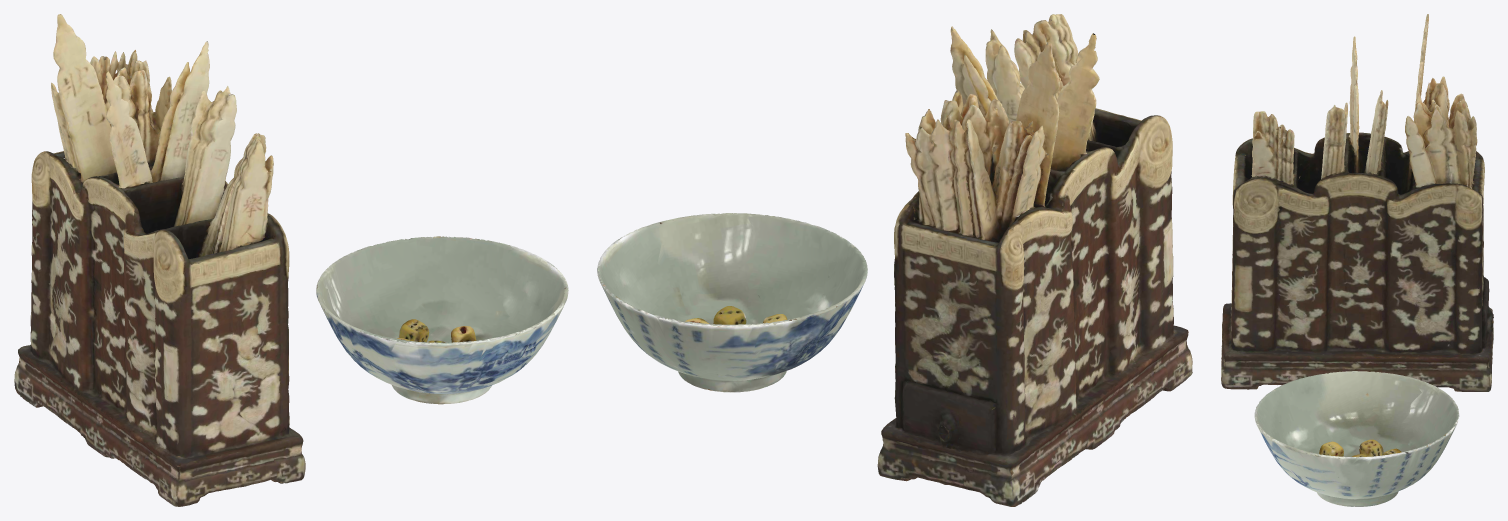
The model's file is bo-xam-huong.glb.
3 renders of one model, left to right at view 1: azimuth 30°, elevation 25°; view 2: azimuth 150°, elevation 25°; view 3: azimuth 270°, elevation 25°, orthographic. The views are drawn at different scales.
Parts seen in each view (by area): view 1: Polygonal_Model_1 110; view 2: Polygonal_Model_1 110; view 3: Polygonal_Model_1 110.
Boxes of the visible parts, x1,y1,x2,y2 form: Polygonal_Model_1 110: (14,14,568,506); Polygonal_Model_1 110: (597,14,1192,506); Polygonal_Model_1 110: (1221,14,1493,506).
Bounding box in the file's own units: 0.3827 × 0.3353 × 0.2427.
Materials: 1 (1 with a texture image).
